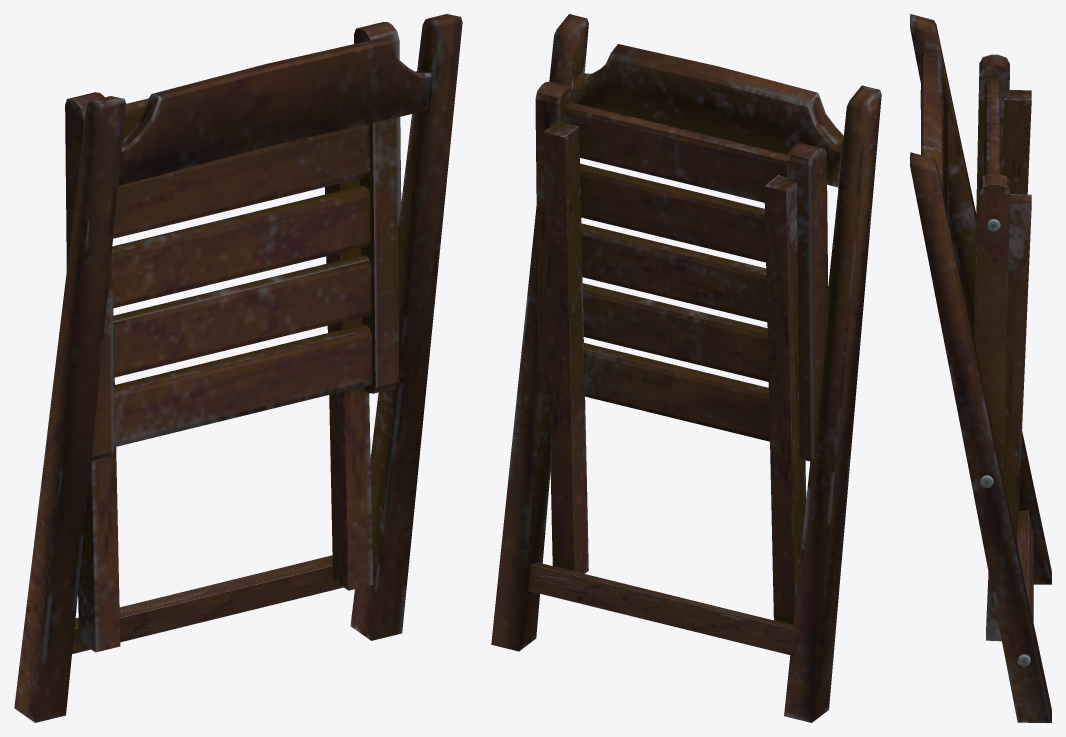
The model's file is Cadeira Fechada.fbx.
3 renders of one model, left to right at view 1: azimuth 30°, elevation 25°; view 2: azimuth 150°, elevation 25°; view 3: azimuth 270°, elevation 25°, orthographic. The views are drawn at different scales.
Visible parts, largest first — view 1: Cube.008; view 2: Cube.008; view 3: Cube.008.
Part boxes in pixels (x1=…): Cube.008: x1=14, y1=14, x2=462, y2=722; Cube.008: x1=491, y1=14, x2=881, y2=722; Cube.008: x1=910, y1=14, x2=1051, y2=722.
Size of the model in its own units: 66.62 by 114 by 26.26.
